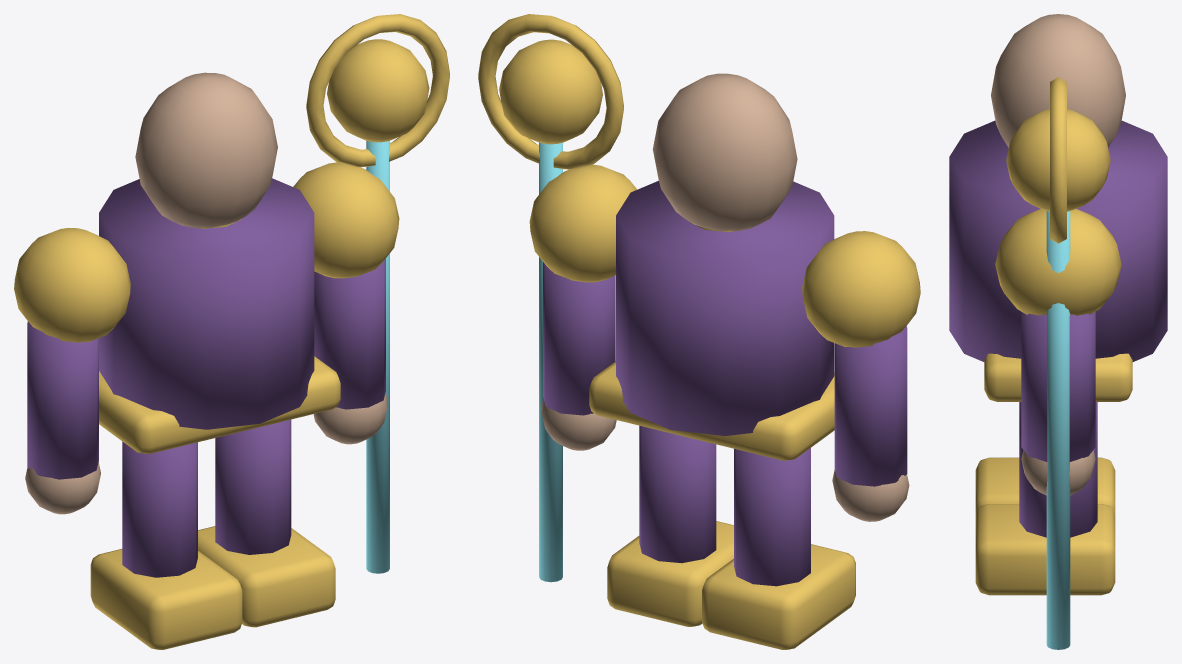
File: Chronomancer_Placeholder.glb
The picture shows the model from 3 angles, left to right: view 1: azimuth 30°, elevation 25°; view 2: azimuth 150°, elevation 25°; view 3: azimuth 270°, elevation 25°; orthographic projection.
Parts seen in each view (by area): view 1: Chronomancer_Placeholder_Export; view 2: Chronomancer_Placeholder_Export; view 3: Chronomancer_Placeholder_Export.
Part boxes in pixels (bbox=[...]): Chronomancer_Placeholder_Export: bbox=[14, 14, 449, 649]; Chronomancer_Placeholder_Export: bbox=[478, 14, 920, 649]; Chronomancer_Placeholder_Export: bbox=[949, 14, 1167, 649].
Bounding box in the file's own units: 138 × 170 × 60.
